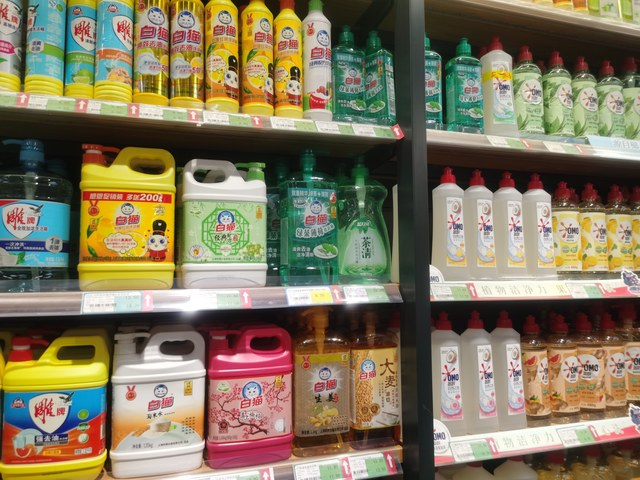Harpic Bathroom Cleaner: (32, 24, 608, 456)
